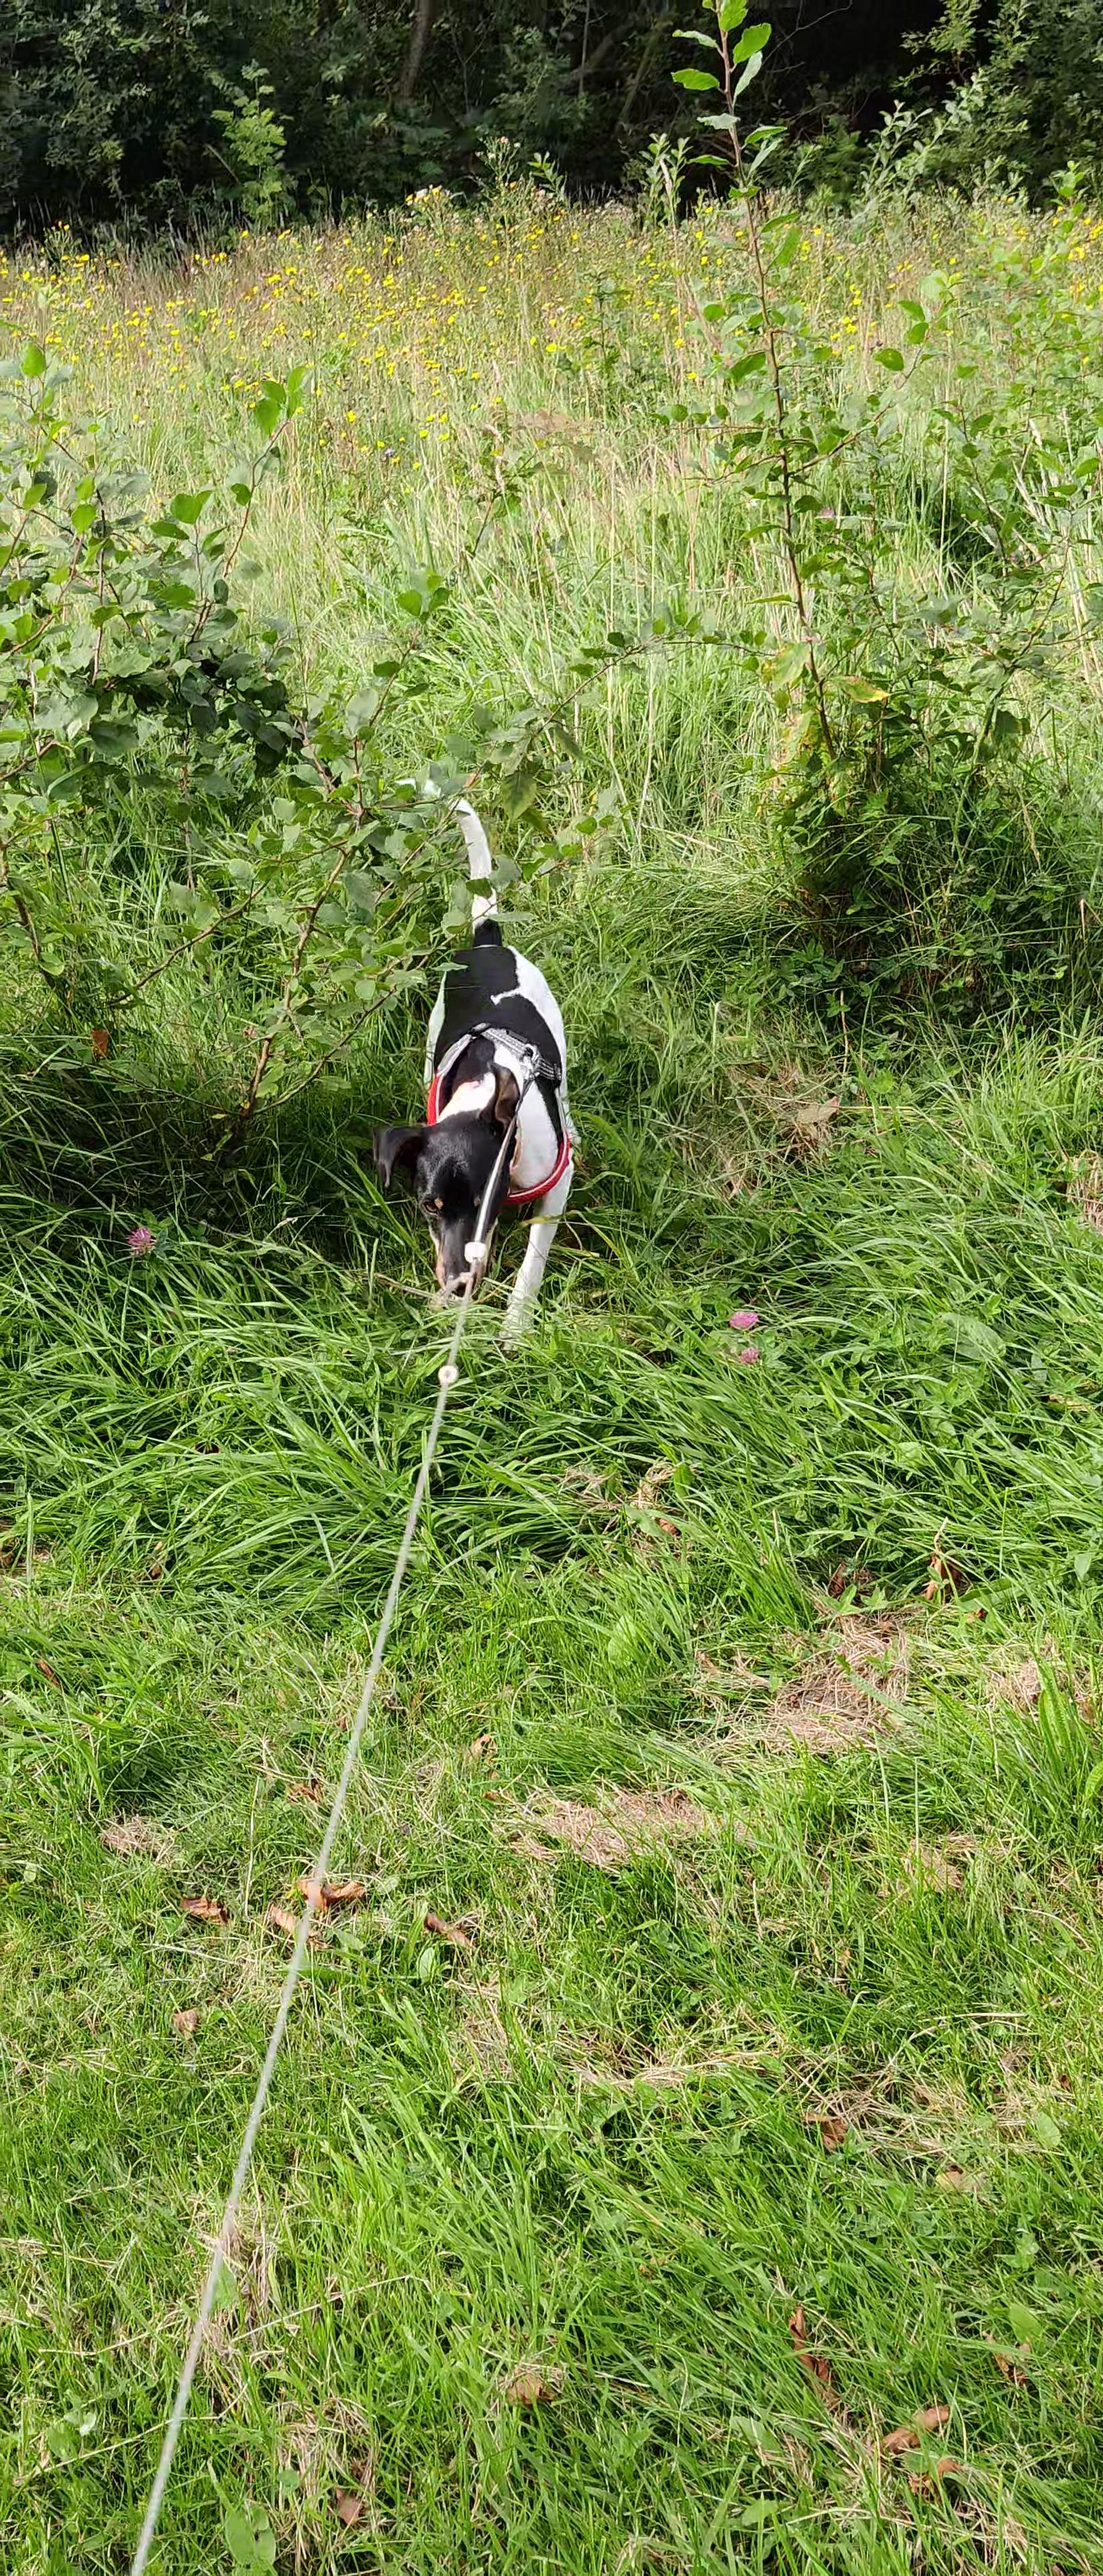Dog: (368, 762, 584, 1354)
